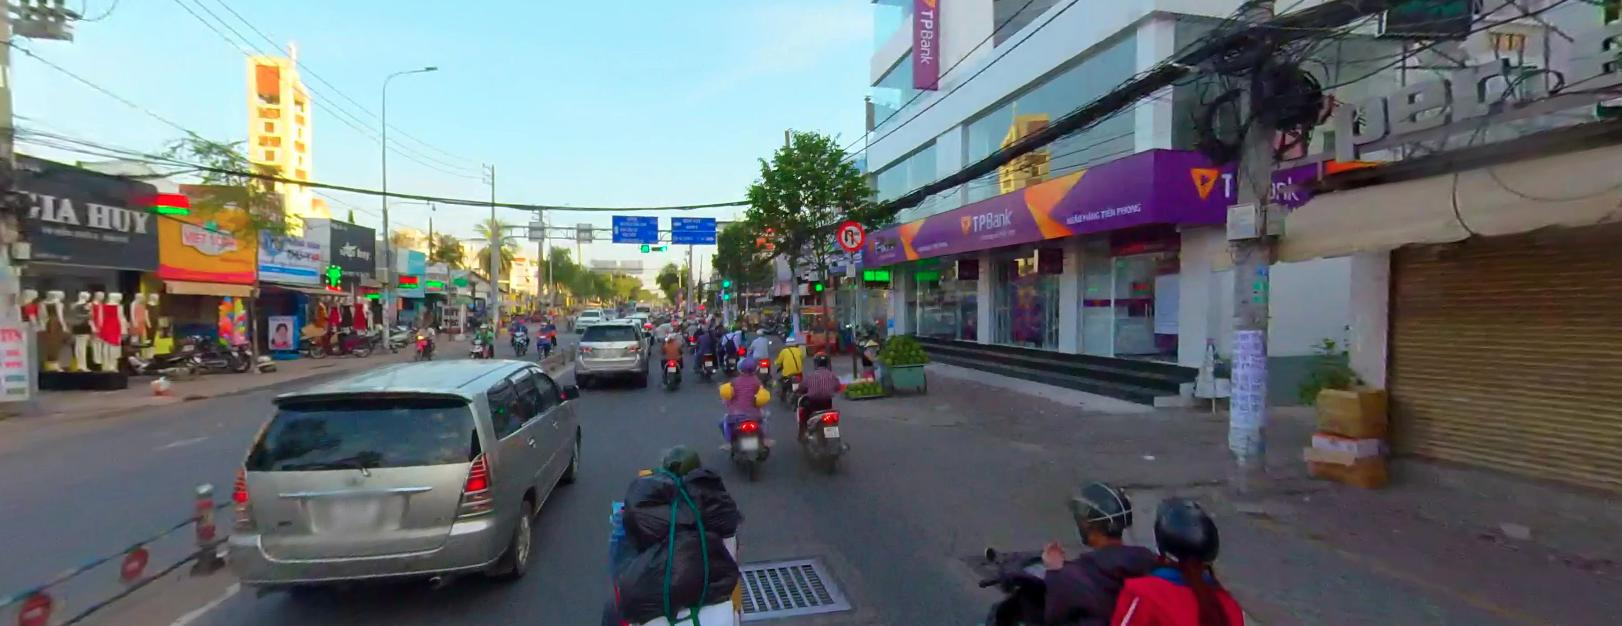Cam re: (838, 219, 864, 248)
